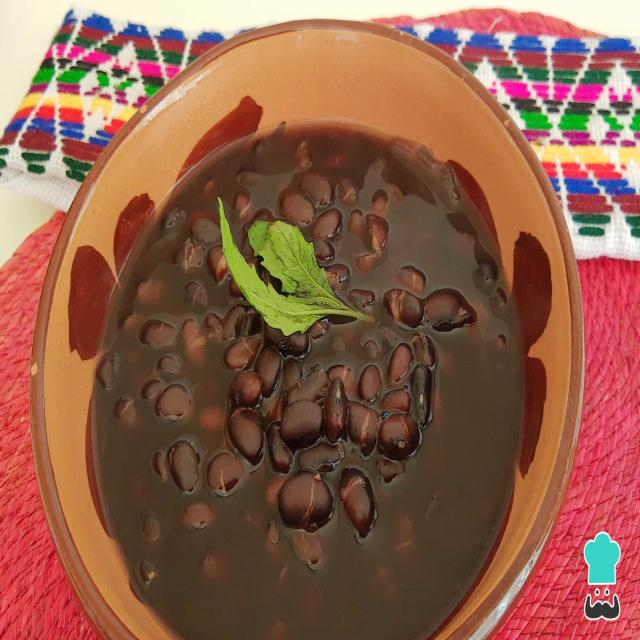frijoles: (71, 119, 546, 630)
